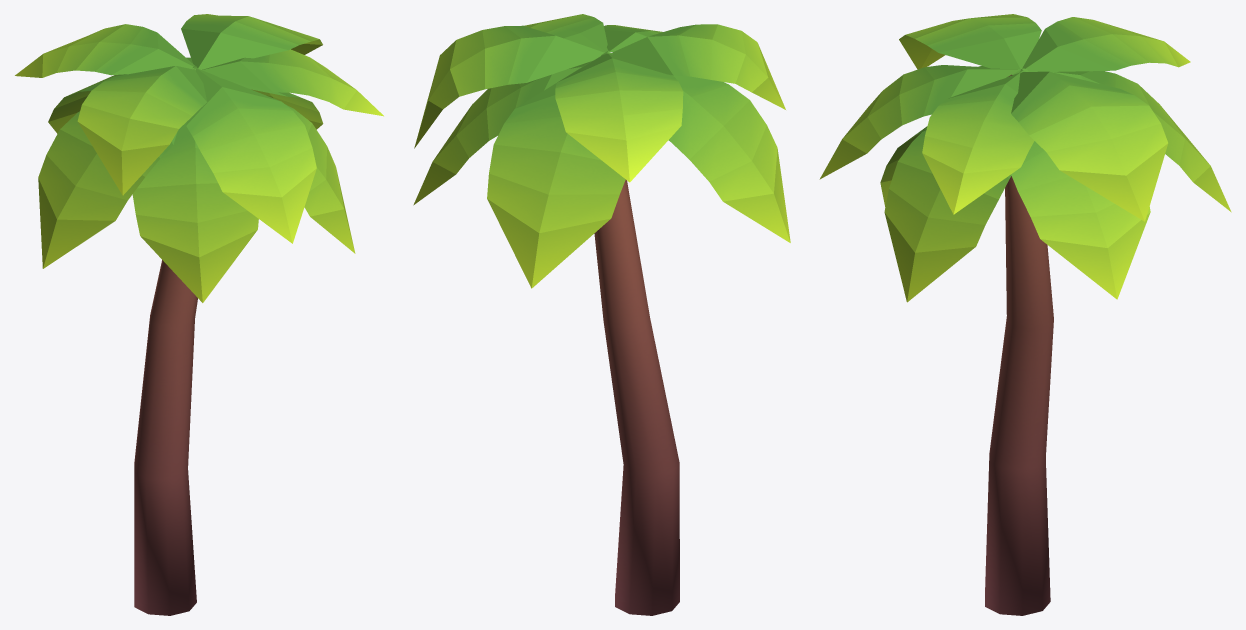
The model's file is Palm Tree 1.fbx.
3 views of the same model, side by side, from view 1: azimuth 30°, elevation 25°; view 2: azimuth 150°, elevation 25°; view 3: azimuth 270°, elevation 25° (orthographic). The views are drawn at different scales.
Visible parts, largest first — view 1: Palm Tree; view 2: Palm Tree; view 3: Palm Tree.
Boxes of the visible parts, x1,y1,x2,y2 form: Palm Tree: [15, 14, 383, 615]; Palm Tree: [413, 14, 790, 615]; Palm Tree: [819, 14, 1231, 615].
Size of the model in its own units: 194 by 314 by 207.
